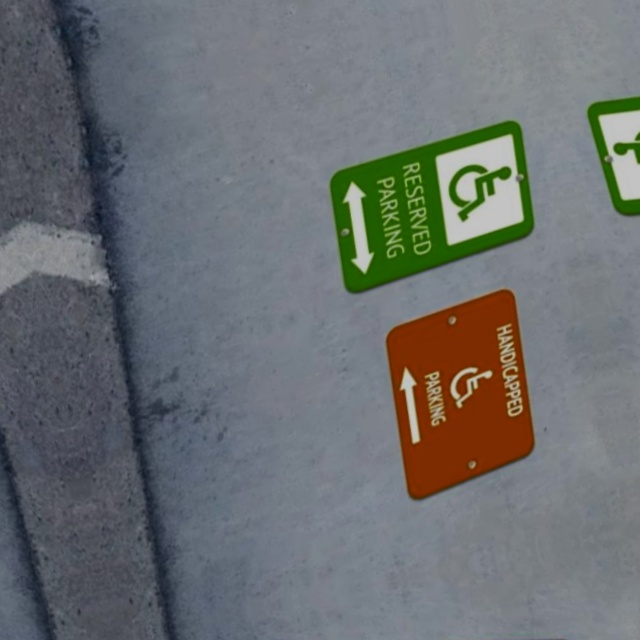ISA: (434, 149, 524, 234), (437, 354, 504, 415), (606, 112, 640, 198)
